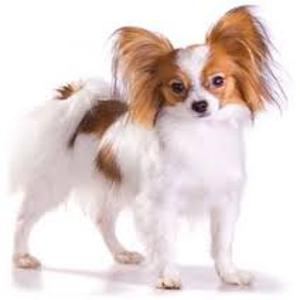yell: (10, 5, 279, 288)
